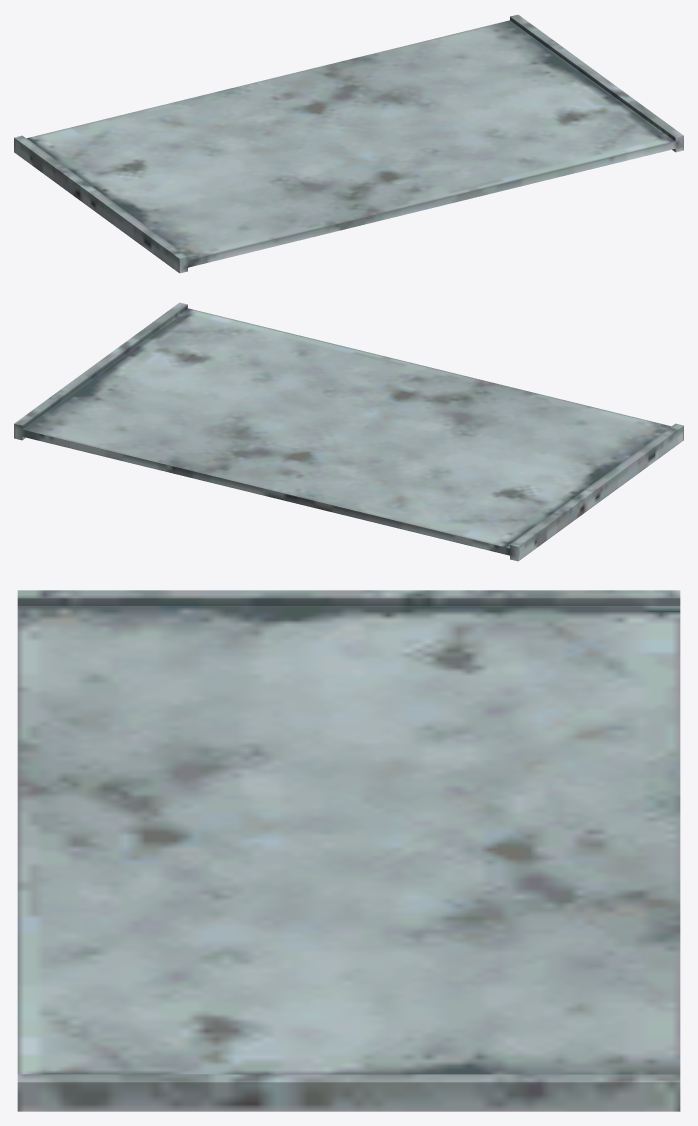
Rendered from glass_03.DAE.
The picture shows the model from 3 angles, top to bottom: view 1: azimuth 30°, elevation 25°; view 2: azimuth 150°, elevation 25°; view 3: azimuth 270°, elevation 25°; orthographic projection. The views are drawn at different scales.
Visible parts, largest first — view 1: glass_03; view 2: glass_03; view 3: glass_03.
Boxes of the visible parts, box(x1,y1,x2,y2) form: glass_03: box(14, 14, 683, 273); glass_03: box(14, 302, 683, 561); glass_03: box(17, 590, 680, 1111).
Size of the model in its own units: 4.25 by 2.42 by 0.1182.
